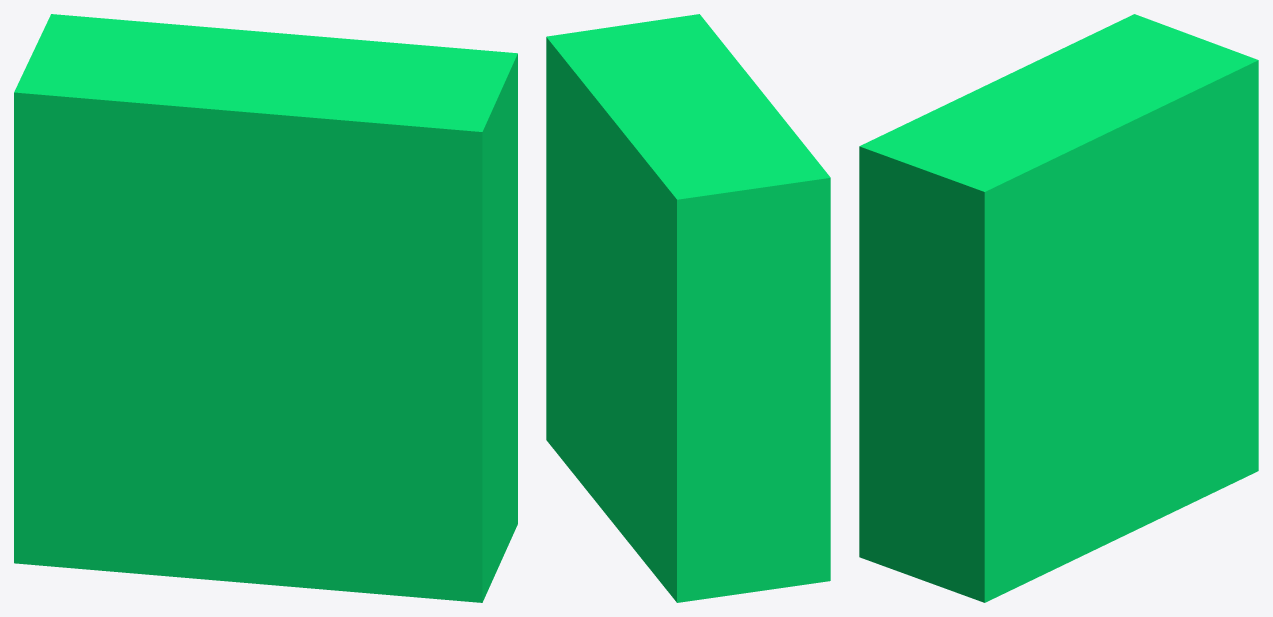
File: DEHB01AL88000043.gltf
The picture shows the model from 3 angles, left to right: view 1: azimuth 30°, elevation 25°; view 2: azimuth 150°, elevation 25°; view 3: azimuth 270°, elevation 25°; orthographic projection. The views are drawn at different scales.
Visible parts, largest first — view 1: Z_UP; view 2: Z_UP; view 3: Z_UP.
Boxes of the visible parts, x1,y1,x2,y2 form: Z_UP: (14,14,517,602); Z_UP: (546,14,830,602); Z_UP: (859,14,1258,602).
Size of the model in its own units: 2.8 by 3.02 by 2.66.
